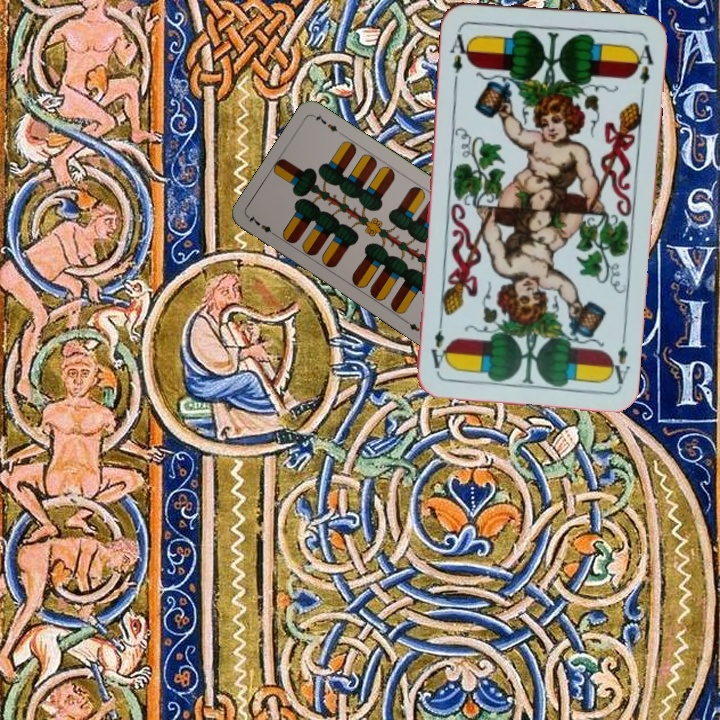E7: (244, 211, 280, 239)
EA: (604, 329, 633, 387), (445, 24, 473, 83)
